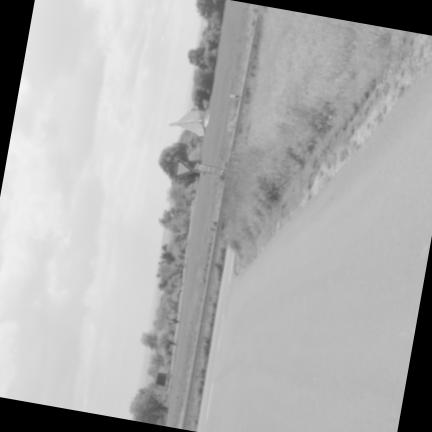Shahed: (170, 106, 204, 135)
